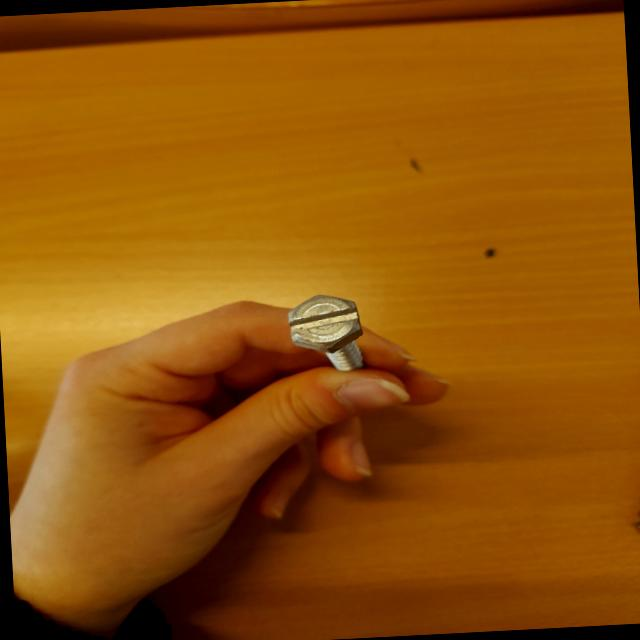Slotted: (286, 290, 364, 353)
